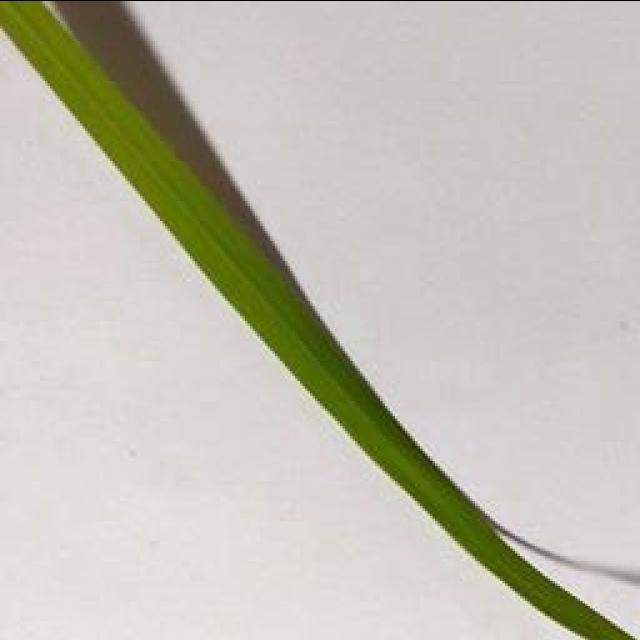Healthy: (0, 0, 638, 640)
